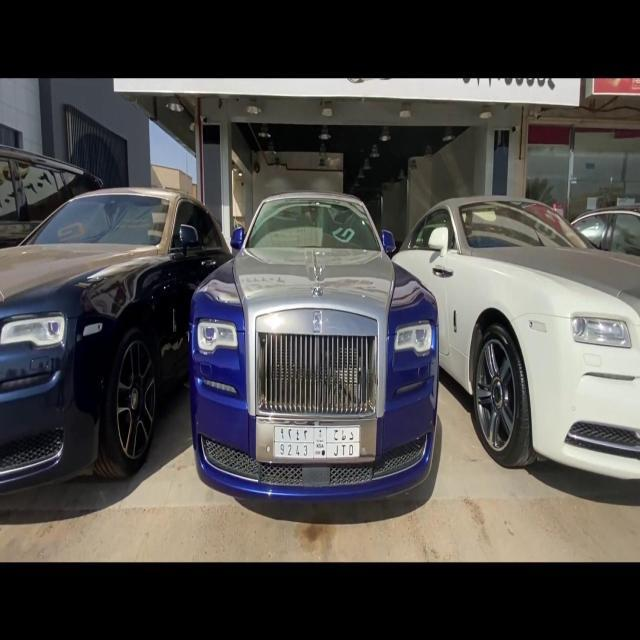license_plate: (270, 416, 363, 462)
